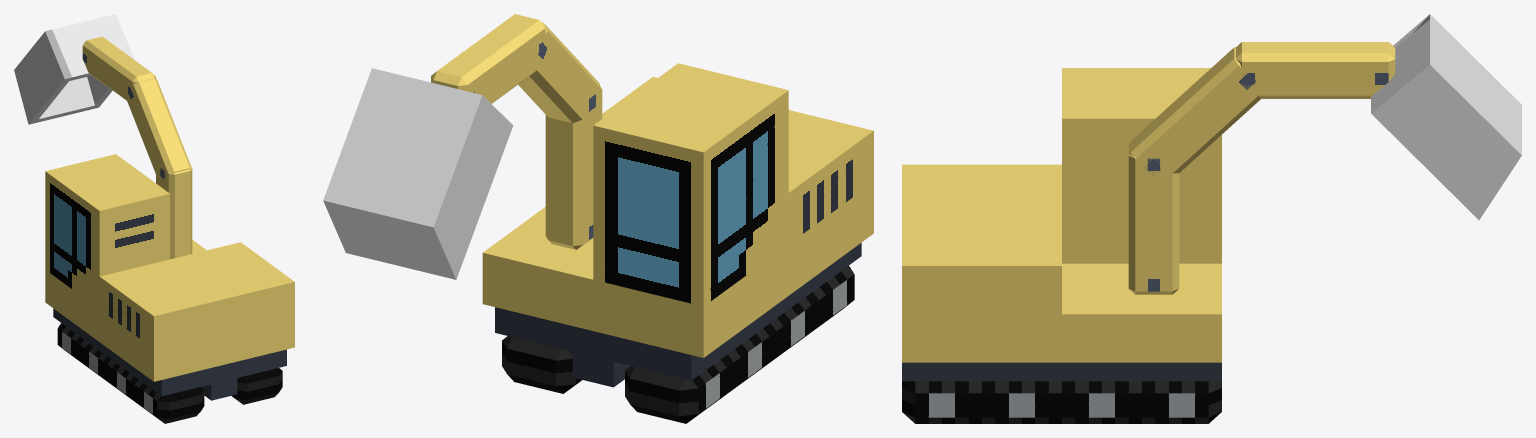
Rendered from Excavadora.fbx.
3 views of the same model, side by side, from view 1: azimuth 30°, elevation 25°; view 2: azimuth 150°, elevation 25°; view 3: azimuth 270°, elevation 25° (orthographic). The views are drawn at different scales.
Visible parts, largest first — view 1: Body, Shovel, oruga d, base, Arm2, Arm3, Arm1, oruga d_1; view 2: Body, Shovel, oruga d, base, Arm1, Arm3, Arm2, oruga d_1; view 3: Body, Shovel, oruga d_1, Arm3, Arm2, Arm1, base.
Part boxes in pixels (x1=…): Body: x1=45, y1=154, x2=294, y2=381; Shovel: x1=14, y1=14, x2=134, y2=124; oruga d: x1=57, y1=323, x2=204, y2=423; base: x1=53, y1=308, x2=286, y2=400; Arm2: x1=125, y1=78, x2=191, y2=183; Arm3: x1=82, y1=36, x2=155, y2=100; Arm1: x1=156, y1=165, x2=192, y2=259; oruga d_1: x1=231, y1=368, x2=282, y2=404; Body: x1=482, y1=63, x2=873, y2=357; Shovel: x1=323, y1=68, x2=513, y2=279; oruga d: x1=625, y1=265, x2=854, y2=423; base: x1=495, y1=242, x2=861, y2=387; Arm1: x1=545, y1=87, x2=602, y2=249; Arm3: x1=431, y1=14, x2=545, y2=103; Arm2: x1=518, y1=22, x2=602, y2=123; oruga d_1: x1=502, y1=336, x2=581, y2=393; Body: x1=902, y1=68, x2=1221, y2=362; Shovel: x1=1371, y1=14, x2=1521, y2=220; oruga d_1: x1=902, y1=381, x2=1221, y2=423; Arm3: x1=1236, y1=42, x2=1395, y2=98; Arm2: x1=1130, y1=47, x2=1264, y2=181; Arm1: x1=1128, y1=143, x2=1179, y2=294; base: x1=902, y1=362, x2=1221, y2=381.
Size of the model in its own units: 56.25 by 95.85 by 145.
4 materials, 4 textured.
